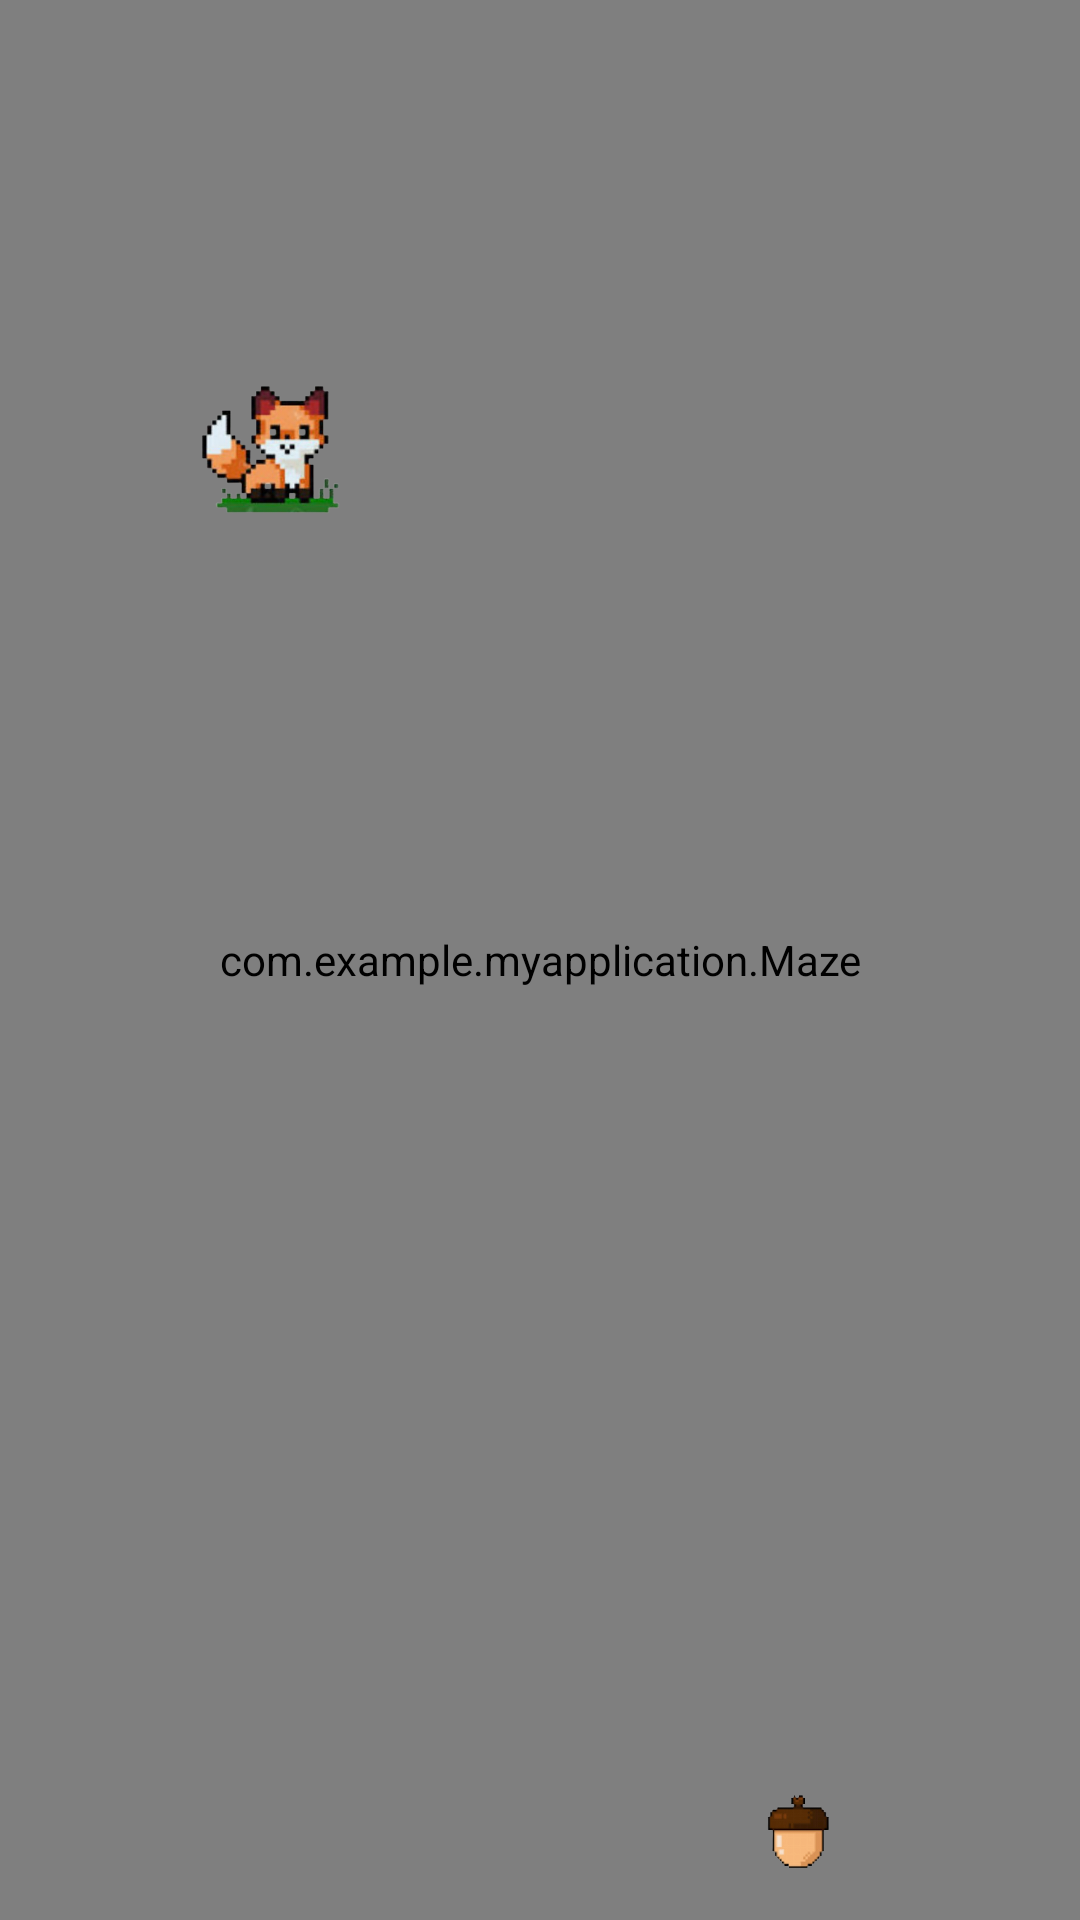

Screen size 1080w x 1920h. Icon name, then its box in pixels as BBox(x1, y1, x2, y2):
acorn: BBox(768, 1795, 829, 1868)
fox: BBox(202, 386, 338, 513)
